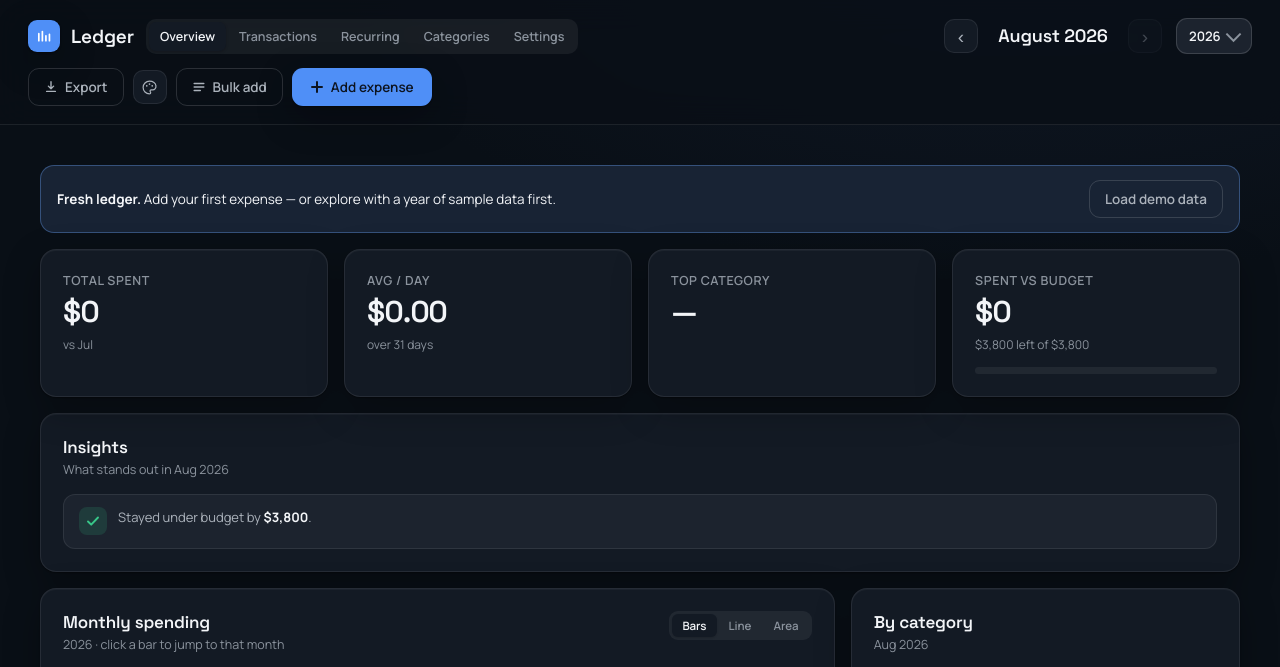
Test: App — smoke + parity › Settings tab shows the re-homed Appearance controls
What coordinates should you click on to do the following:
click the button "Settings"
I would click on:
 (539, 36)
Its box is [503, 22, 575, 50].
(page scrolled)
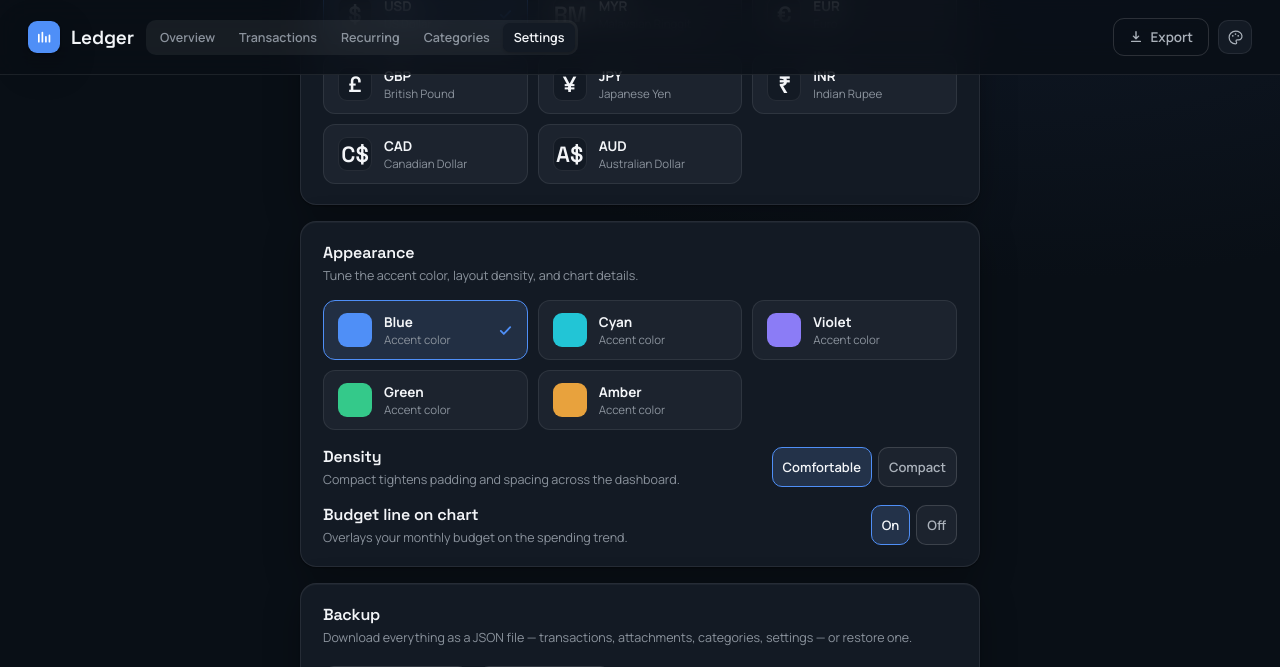
Expected: the heading "Appearance" is shown, [323, 242, 414, 263]
